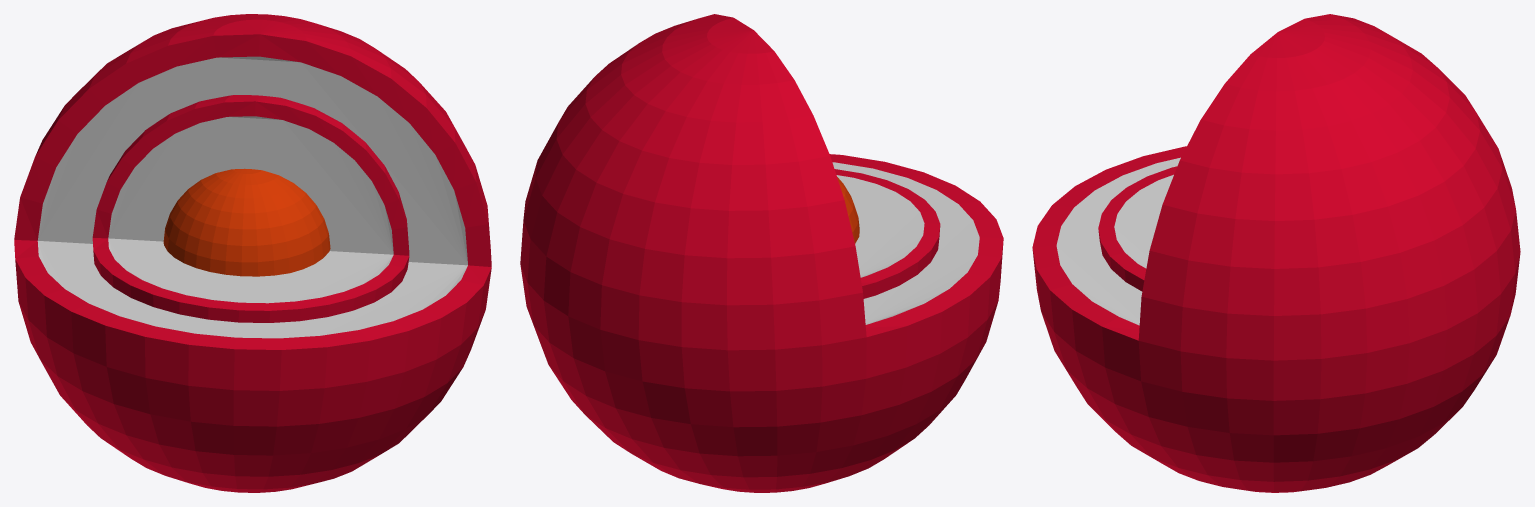
Rendered from nulcear.dae.
3 renders of one model, left to right at view 1: azimuth 30°, elevation 25°; view 2: azimuth 150°, elevation 25°; view 3: azimuth 270°, elevation 25°, orthographic.
Parts seen in each view (by area): view 1: Sphere_008; view 2: Sphere_008; view 3: Sphere_008.
Boxes of the visible parts, left/top/right/bottom form: Sphere_008: left=14, top=14, right=491, bottom=492; Sphere_008: left=520, top=14, right=1003, bottom=492; Sphere_008: left=1032, top=14, right=1520, bottom=492.
Size of the model in its own units: 1.93 by 1.93 by 1.93.
